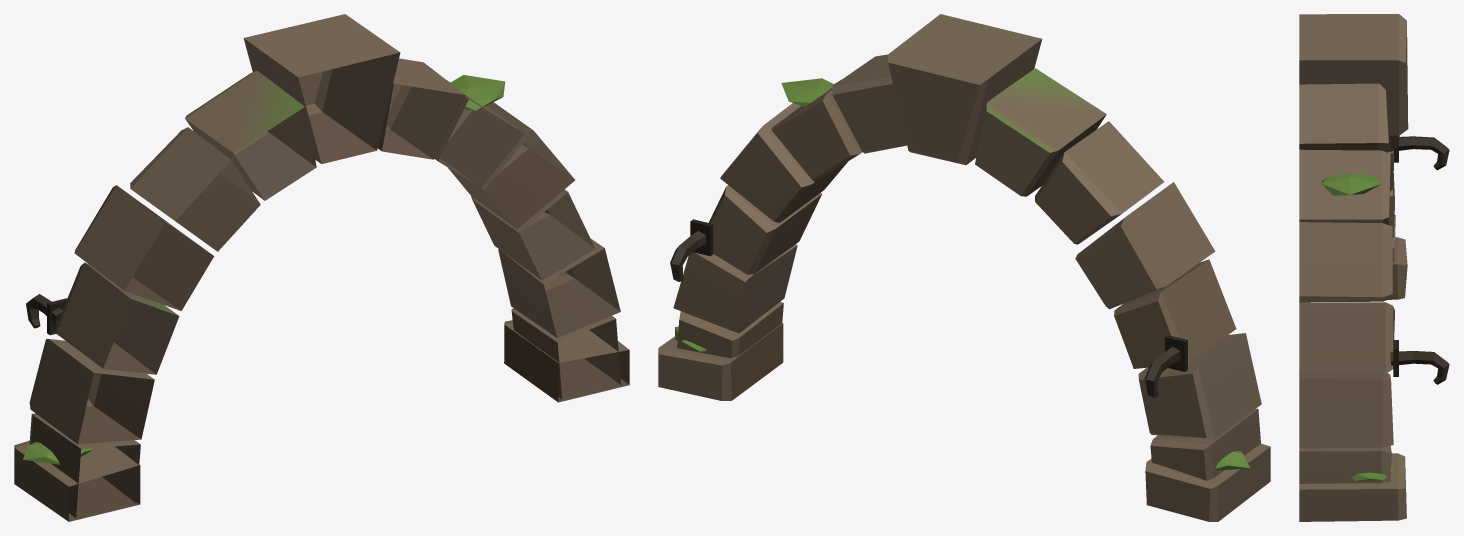
Rendered from cave_gate_arch_v3.fbx.
The picture shows the model from 3 angles, left to right: view 1: azimuth 30°, elevation 25°; view 2: azimuth 150°, elevation 25°; view 3: azimuth 270°, elevation 25°; orthographic projection. The views are drawn at different scales.
Visible parts, largest first — view 1: cave_gate_arch_v3; view 2: cave_gate_arch_v3; view 3: cave_gate_arch_v3.
Part boxes in pixels (x1,y1,x2,y2): cave_gate_arch_v3: [14, 14, 629, 521]; cave_gate_arch_v3: [658, 14, 1270, 521]; cave_gate_arch_v3: [1299, 14, 1449, 521].
Size of the model in its own units: 3979 by 2579 by 977.
